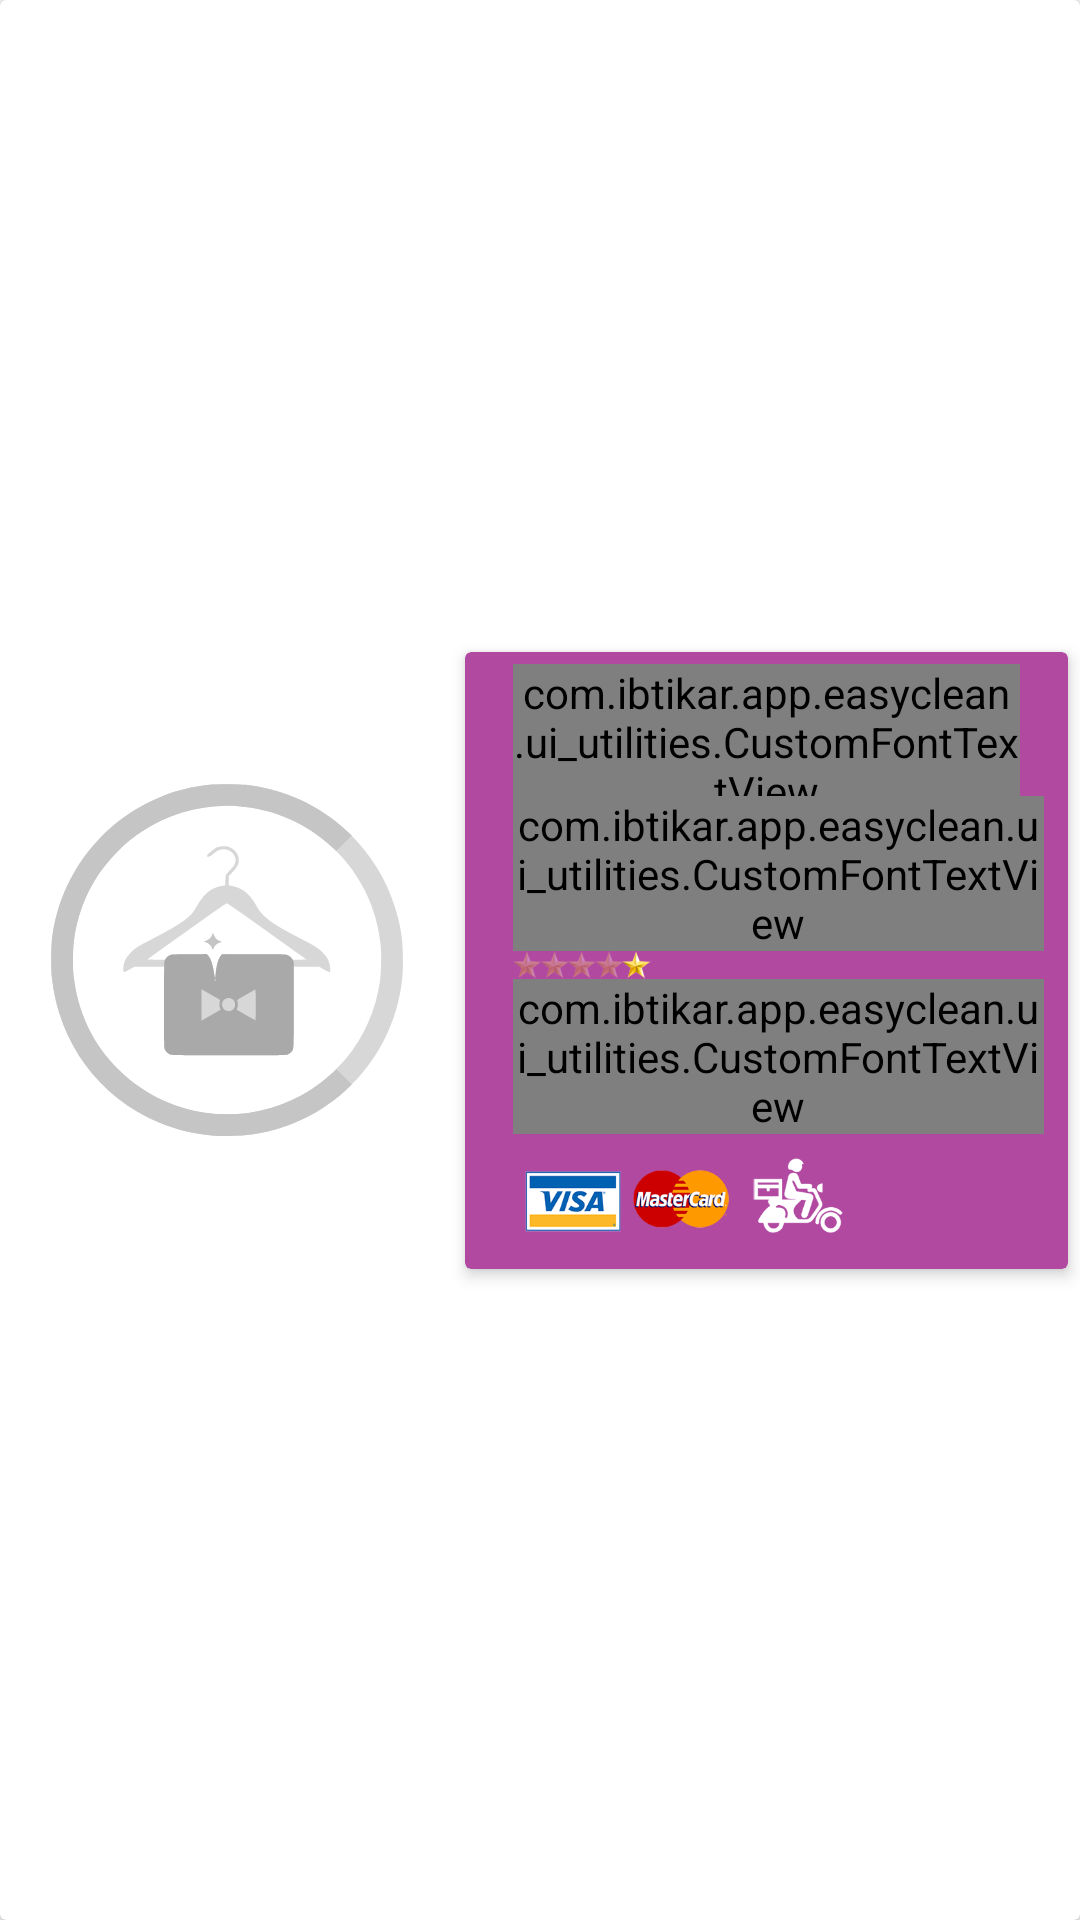

Named icons in this screenshot (1080px×1920px) and their centers, (x,y):
delivery: (798,1195)
place holder: (227,960)
star: (582,965)
